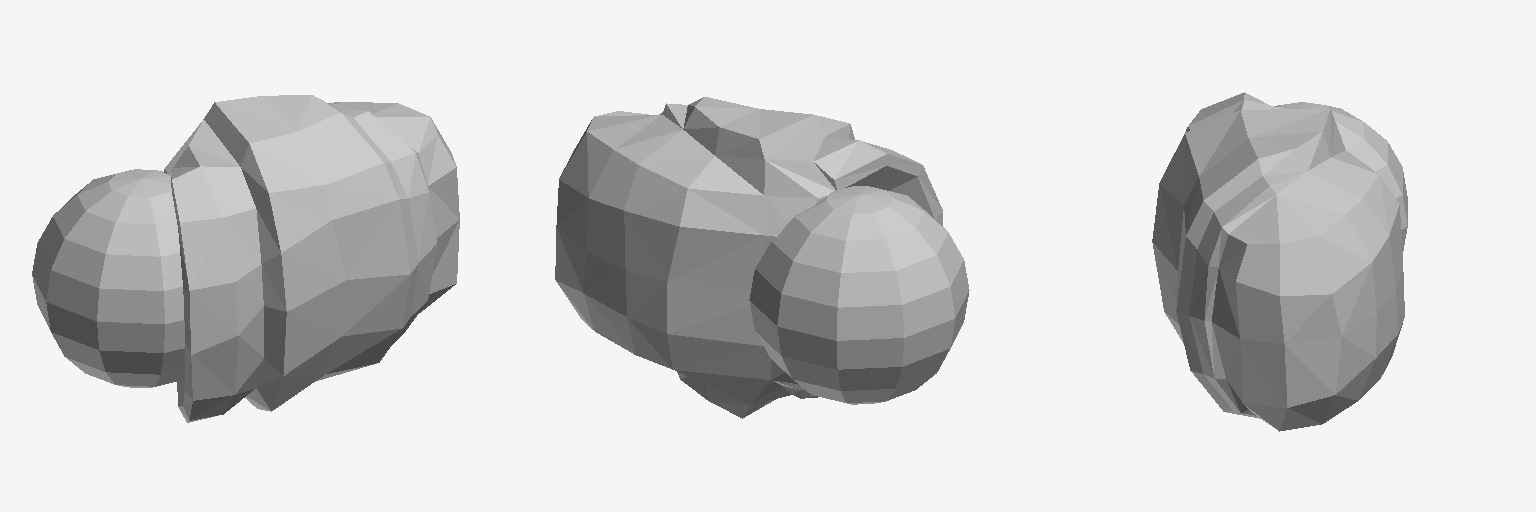
File: RThumb2.obj
3 views of the same model, side by side, from view 1: azimuth 30°, elevation 25°; view 2: azimuth 150°, elevation 25°; view 3: azimuth 270°, elevation 25° (orthographic).
Visible parts, largest first — view 1: RThumb2_JULIETTE_AV_BRAS_.089; view 2: RThumb2_JULIETTE_AV_BRAS_.089; view 3: RThumb2_JULIETTE_AV_BRAS_.089.
Boxes of the visible parts, <box> form: RThumb2_JULIETTE_AV_BRAS_.089: <box>32,95,459,422</box>; RThumb2_JULIETTE_AV_BRAS_.089: <box>555,97,969,418</box>; RThumb2_JULIETTE_AV_BRAS_.089: <box>1152,92,1407,431</box>.
Bounding box in the file's own units: 0.2263 × 0.1517 × 0.126.